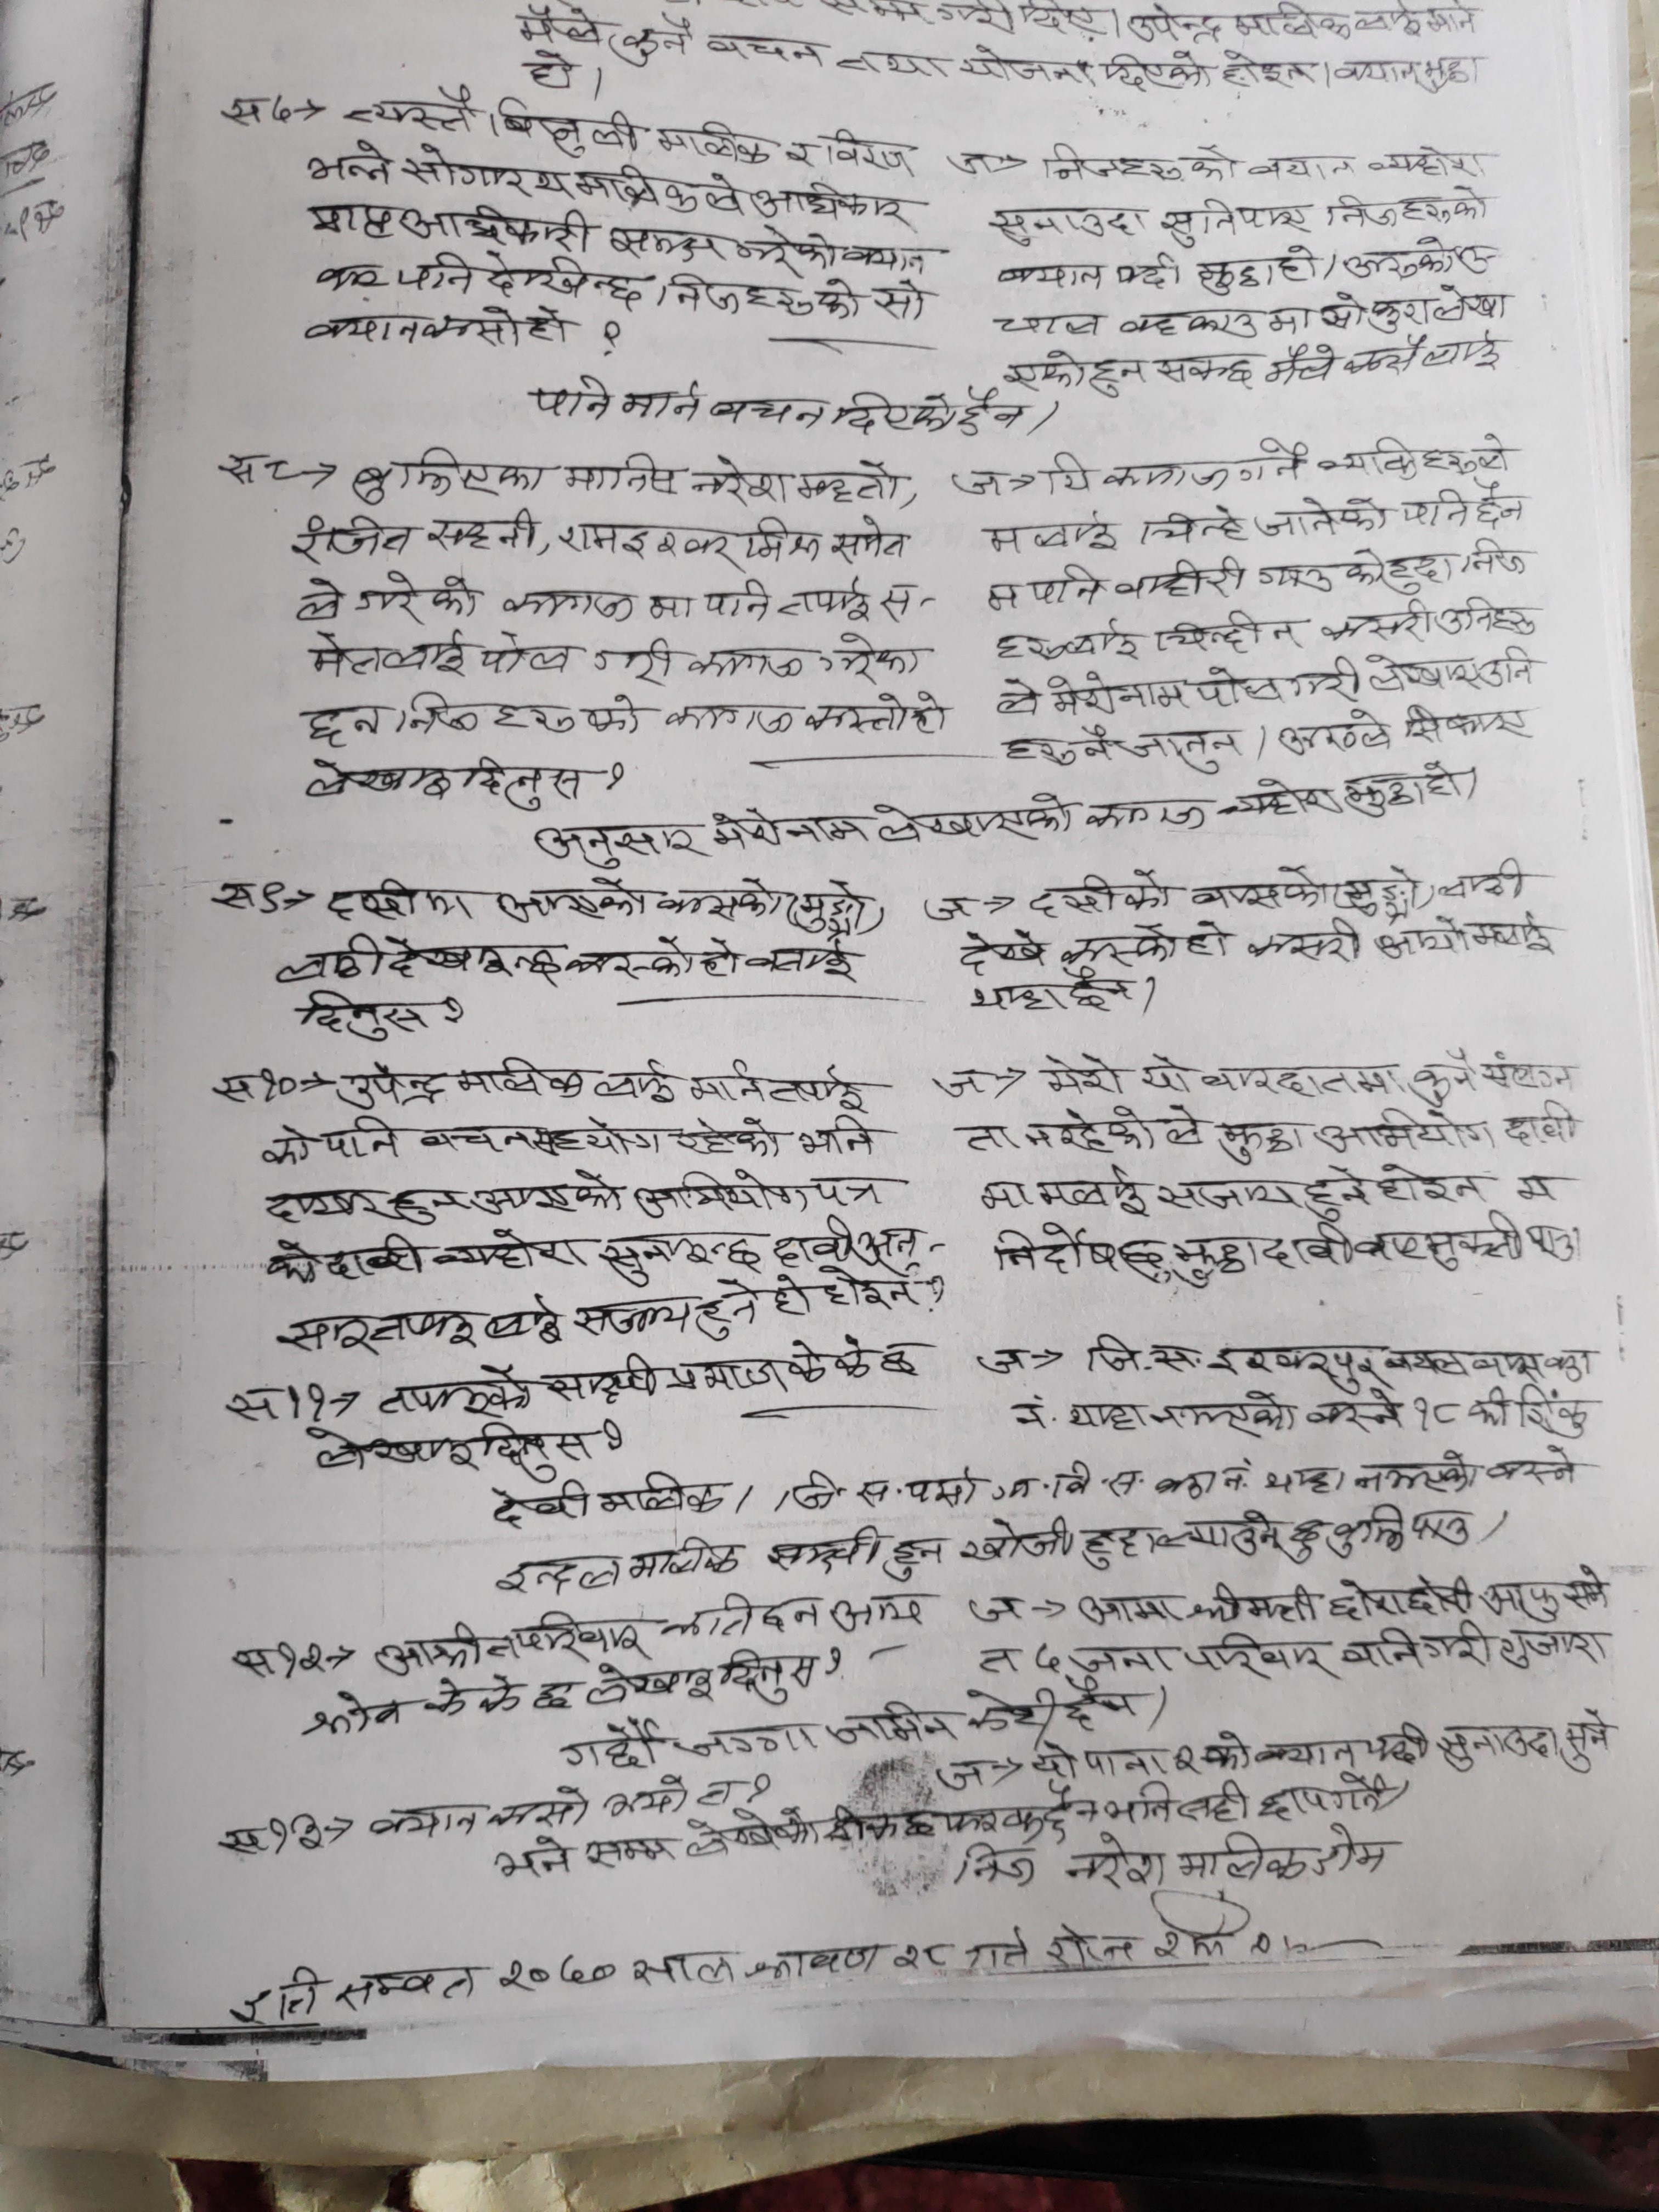text: (272, 1296, 568, 1359), (303, 1423, 594, 1484), (303, 754, 591, 815), (559, 512, 824, 571), (830, 1787, 1098, 1843), (392, 688, 643, 742), (455, 1054, 676, 1108), (350, 446, 545, 507), (871, 791, 1080, 846), (301, 300, 523, 352), (397, 139, 575, 202), (479, 246, 645, 312), (1354, 1211, 1523, 1275), (688, 1059, 868, 1118), (484, 96, 640, 162), (422, 1116, 666, 1158), (568, 158, 742, 216), (1312, 1106, 1500, 1158), (1206, 1341, 1387, 1395), (387, 930, 561, 986), (1314, 430, 1513, 479), (397, 204, 594, 253), (633, 1167, 809, 1219), (1039, 141, 1239, 186), (603, 1230, 765, 1285), (1023, 1108, 1211, 1155), (488, 1609, 650, 1663), (530, 820, 708, 869), (1114, 298, 1314, 340), (1324, 181, 1490, 232), (305, 627, 471, 678), (1199, 1061, 1413, 1099), (659, 270, 816, 322), (1154, 195, 1310, 247), (376, 1366, 533, 1418), (1188, 1576, 1324, 1635), (469, 1169, 627, 1219), (493, 876, 650, 927), (293, 986, 430, 1043), (1143, 1388, 1297, 1439), (1176, 1829, 1307, 1888), (990, 1458, 1152, 1505), (338, 84, 474, 139), (1183, 1635, 1338, 1684), (1262, 1770, 1401, 1824), (1338, 333, 1504, 378), (995, 613, 1143, 664), (434, 1228, 587, 1277), (985, 202, 1148, 247), (1028, 869, 1175, 920), (1323, 1573, 1474, 1622), (1434, 1717, 1561, 1775), (1114, 721, 1244, 777), (1192, 862, 1331, 914), (992, 1223, 1121, 1278), (322, 880, 469, 928), (748, 181, 910, 225), (291, 510, 413, 568), (1234, 2, 1422, 38), (1112, 556, 1248, 606), (714, 1642, 817, 1709), (960, 40, 1094, 91), (356, 570, 479, 624), (1333, 52, 1485, 96), (1192, 244, 1317, 296), (711, 808, 868, 850), (685, 1813, 824, 1860), (826, 1698, 955, 1749), (1385, 1341, 1547, 1381), (986, 509, 1124, 556), (1162, 1508, 1290, 1559), (369, 1622, 484, 1677), (955, 1514, 1073, 1568), (580, 1660, 716, 1707), (674, 1717, 821, 1761), (812, 632, 938, 683), (1155, 611, 1307, 653), (730, 221, 843, 277), (427, 505, 540, 561), (498, 583, 638, 629), (1399, 700, 1534, 747), (655, 118, 772, 172), (831, 390, 960, 439), (598, 1468, 727, 1517), (331, 1966, 481, 2008), (1255, 545, 1387, 592), (544, 1352, 659, 1406), (1354, 1449, 1481, 1498), (690, 451, 793, 510), (1270, 709, 1391, 759), (664, 873, 784, 923), (1244, 920, 1364, 970), (1084, 1329, 1204, 1379), (1251, 496, 1391, 540), (1225, 775, 1344, 826), (746, 930, 864, 981), (1061, 1838, 1171, 1892), (1037, 1167, 1150, 1219), (493, 1552, 622, 1597), (275, 930, 383, 984), (563, 451, 687, 498), (1342, 232, 1457, 282), (958, 1681, 1060, 1738), (1084, 794, 1211, 840), (1100, 44, 1216, 92), (767, 1526, 884, 1575), (1056, 923, 1182, 968), (744, 1940, 880, 1982), (772, 1470, 896, 1515), (326, 1231, 425, 1287), (498, 1949, 619, 1994), (1373, 1160, 1488, 1207), (666, 698, 795, 740), (1476, 1439, 1582, 1489), (420, 1672, 526, 1723), (573, 1294, 692, 1339), (561, 1719, 660, 1773), (795, 458, 904, 507), (1370, 646, 1480, 695), (1154, 1176, 1300, 1212), (1321, 597, 1434, 644), (335, 1062, 448, 1109), (627, 1531, 741, 1578), (1173, 1230, 1260, 1291), (701, 28, 821, 71), (606, 223, 727, 266), (669, 1115, 784, 1160), (803, 691, 906, 742), (301, 1688, 401, 1740), (664, 1357, 788, 1399), (1263, 1219, 1356, 1275), (765, 1209, 854, 1266), (823, 1263, 924, 1313), (1495, 1625, 1612, 1669), (706, 392, 826, 434), (1480, 1045, 1579, 1096), (1434, 594, 1541, 641), (486, 1480, 592, 1527), (1195, 662, 1284, 718), (265, 1184, 378, 1228), (831, 1592, 936, 1639), (599, 1770, 692, 1822), (1368, 143, 1493, 181), (772, 578, 870, 627), (957, 927, 1051, 977), (1147, 350, 1255, 394), (1136, 503, 1244, 547), (1215, 44, 1314, 91), (1371, 914, 1471, 961), (627, 1947, 739, 1989), (1304, 1390, 1406, 1435), (301, 138, 390, 190), (688, 641, 803, 681), (823, 125, 917, 174), (687, 1277, 760, 1339), (1436, 857, 1530, 906), (662, 1595, 756, 1644), (479, 634, 580, 679), (298, 698, 385, 751), (366, 1803, 484, 1841), (484, 1787, 592, 1829), (1312, 1822, 1396, 1876), (1467, 909, 1563, 956), (1328, 1503, 1406, 1561), (1039, 1050, 1127, 1101), (1474, 1578, 1563, 1629), (835, 44, 951, 82), (491, 1834, 577, 1886), (1518, 1379, 1593, 1439), (1044, 1919, 1138, 1966), (1216, 1118, 1304, 1169), (1082, 1519, 1161, 1575), (1070, 1637, 1175, 1679), (1502, 1097, 1582, 1151), (1121, 0, 1220, 44), (955, 1841, 1040, 1892), (619, 12, 694, 70), (1345, 862, 1420, 920), (1103, 462, 1232, 495), (1304, 1160, 1371, 1223), (962, 979, 1068, 1019), (592, 639, 676, 690), (1344, 768, 1424, 820), (300, 197, 392, 242), (1251, 1733, 1359, 1771), (319, 1113, 401, 1163), (1286, 653, 1364, 705), (993, 258, 1105, 294), (993, 307, 1108, 341), (1075, 1595, 1183, 1632), (514, 2, 601, 47), (830, 514, 910, 563), (1044, 667, 1114, 723), (802, 874, 871, 930), (530, 374, 612, 421), (397, 253, 476, 301), (1065, 1677, 1138, 1730), (622, 380, 706, 425), (1561, 1709, 1617, 1777), (617, 934, 697, 981), (1002, 352, 1087, 395), (1417, 1049, 1478, 1109), (1030, 561, 1108, 608), (796, 1116, 880, 1160), (1182, 1778, 1255, 1827), (1342, 1627, 1422, 1670), (854, 1219, 925, 1268), (910, 1467, 983, 1514), (964, 1921, 1037, 1968), (1105, 1782, 1175, 1831), (842, 240, 934, 277), (1002, 730, 1073, 777), (1363, 1723, 1434, 1770), (1065, 1395, 1145, 1437), (697, 577, 774, 620), (1420, 1625, 1493, 1670), (385, 1184, 467, 1224), (814, 1170, 896, 1211), (1457, 533, 1527, 580), (1258, 1463, 1352, 1498), (887, 1935, 962, 1979), (890, 1527, 948, 1583), (1239, 441, 1307, 488), (1406, 1501, 1474, 1548), (1403, 486, 1469, 533), (1114, 251, 1182, 296), (1246, 152, 1356, 179), (964, 383, 1026, 432), (1080, 1742, 1164, 1778), (1387, 552, 1457, 596), (1434, 286, 1513, 324), (1263, 345, 1335, 387), (760, 1590, 824, 1635), (265, 1235, 319, 1289), (1473, 481, 1528, 533), (260, 1120, 315, 1172), (1065, 970, 1134, 1012), (288, 577, 345, 627), (1565, 1564, 1614, 1622), (582, 1838, 676, 1867), (1370, 291, 1432, 334), (1089, 352, 1147, 399), (1154, 1458, 1218, 1500), (1121, 1238, 1173, 1289), (1466, 1381, 1516, 1433), (1042, 449, 1096, 498), (1140, 1047, 1194, 1096), (870, 279, 932, 320), (312, 261, 390, 294), (519, 47, 579, 91), (1117, 676, 1190, 711), (1525, 1221, 1577, 1270), (782, 1334, 830, 1388), (1408, 1388, 1464, 1433), (1480, 644, 1537, 688), (877, 1336, 929, 1383), (978, 1172, 1032, 1217), (995, 671, 1044, 719), (826, 1336, 875, 1385), (812, 279, 864, 324), (1030, 1738, 1082, 1784), (1195, 1728, 1251, 1770), (525, 300, 573, 347), (697, 930, 742, 979), (774, 1270, 816, 1322), (1323, 287, 1368, 334), (1288, 1512, 1324, 1569), (1019, 2, 1094, 30), (965, 1120, 1025, 1155), (1009, 1393, 1054, 1439), (904, 690, 948, 737), (1425, 756, 1464, 808), (1185, 918, 1232, 958), (1424, 2, 1483, 33), (875, 582, 917, 625), (643, 590, 694, 625), (1079, 721, 1114, 772), (1220, 1449, 1255, 1496), (533, 1677, 573, 1716), (692, 1778, 737, 1811), (1028, 1641, 1065, 1679), (1513, 1170, 1560, 1200), (1169, 1738, 1201, 1780), (985, 580, 1019, 617), (782, 139, 816, 171)
